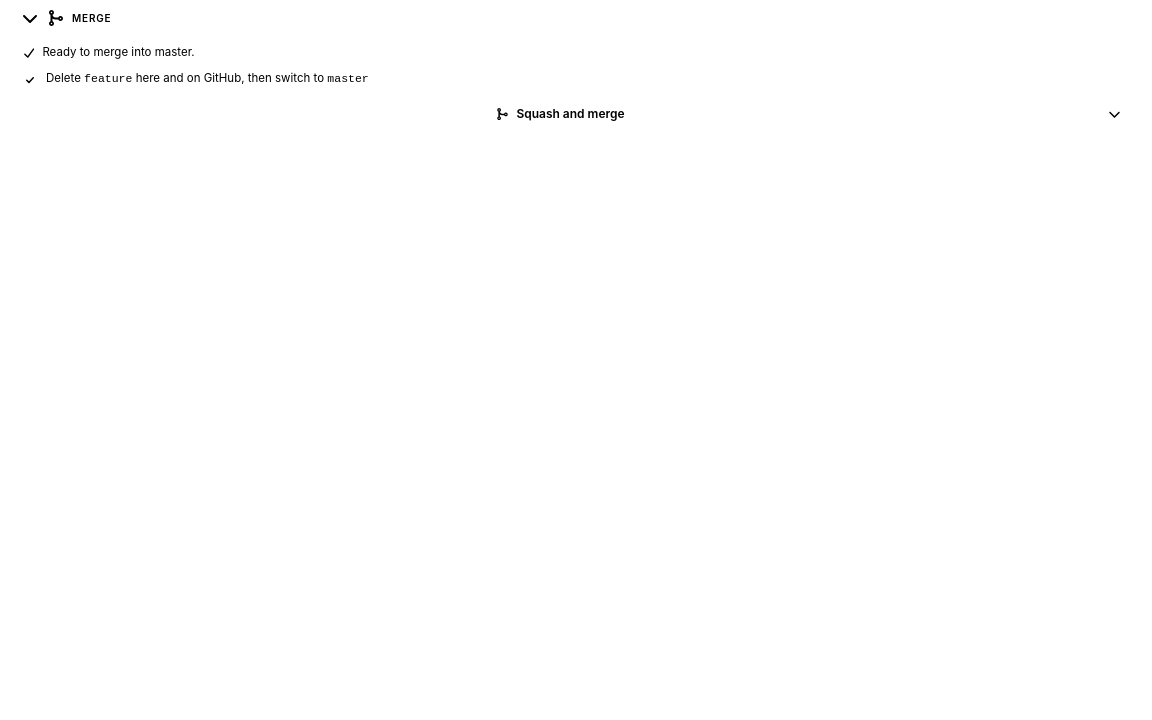
Test: MergeCard › reports a merge GitHub refused
Step 1. Click the button "Squash and merge" → (560, 114), box 22,98 -> 1098,130
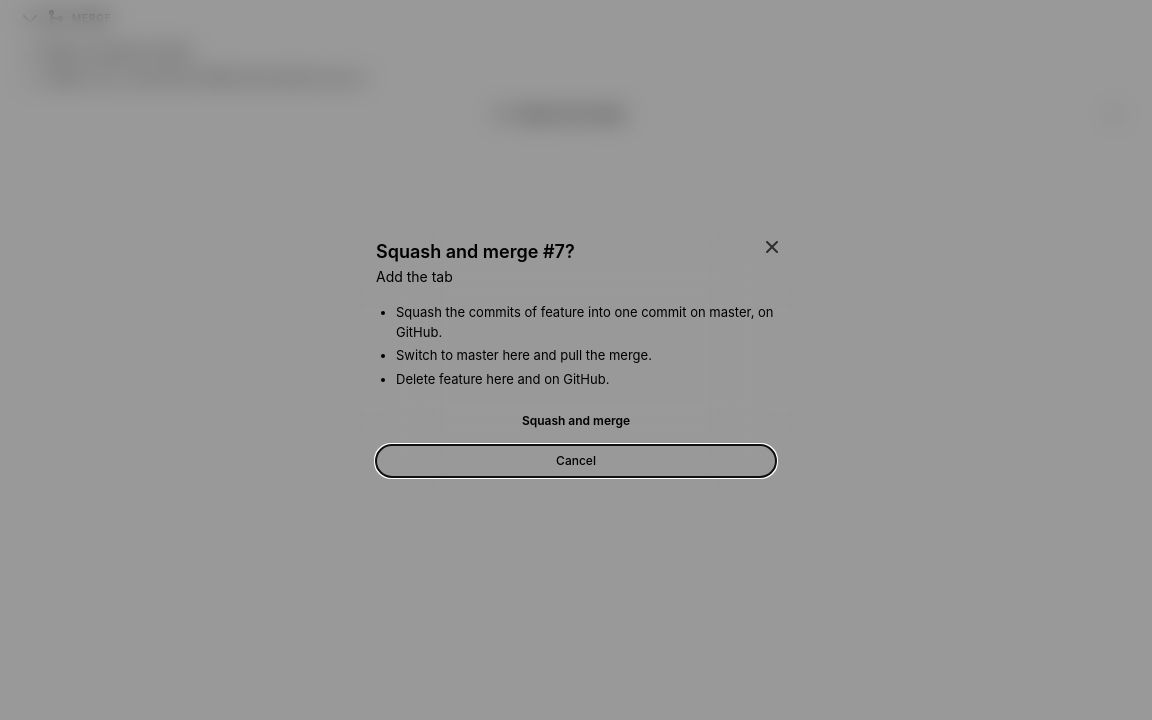
Step 2. Click the button "Squash and merge" → (576, 421), box 376,405 -> 776,437
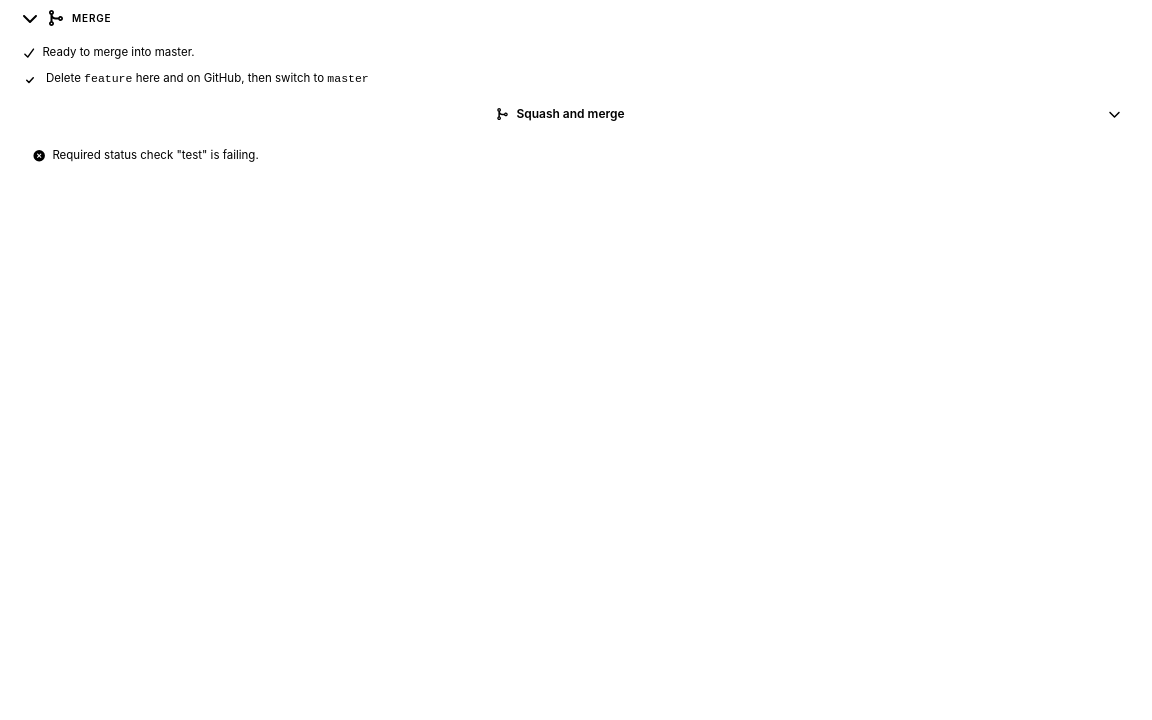
Expected: the text "Required status check \"test\" is failing." is shown, 52,148 -> 259,164
